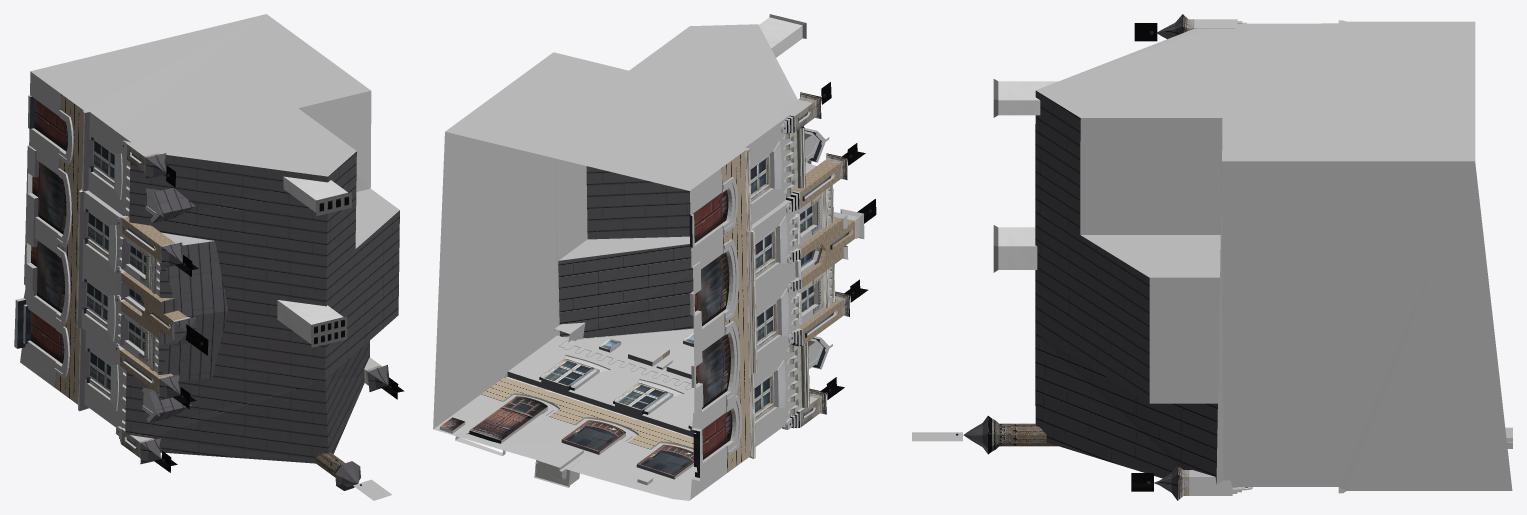
The model's file is Kullassepa_13.obj.
3 views of the same model, side by side, from view 1: azimuth 30°, elevation 25°; view 2: azimuth 150°, elevation 25°; view 3: azimuth 270°, elevation 25° (orthographic). The views are drawn at different scales.
Visible parts, largest first — view 1: Kullassepa_13; view 2: Kullassepa_13; view 3: Kullassepa_13.
Part boxes in pixels (x1,y1,x2,y2): Kullassepa_13: (14,14,404,500); Kullassepa_13: (433,14,876,500); Kullassepa_13: (912,14,1512,500).
Bounding box in the file's own units: 12.16 × 14.31 × 20.99.
